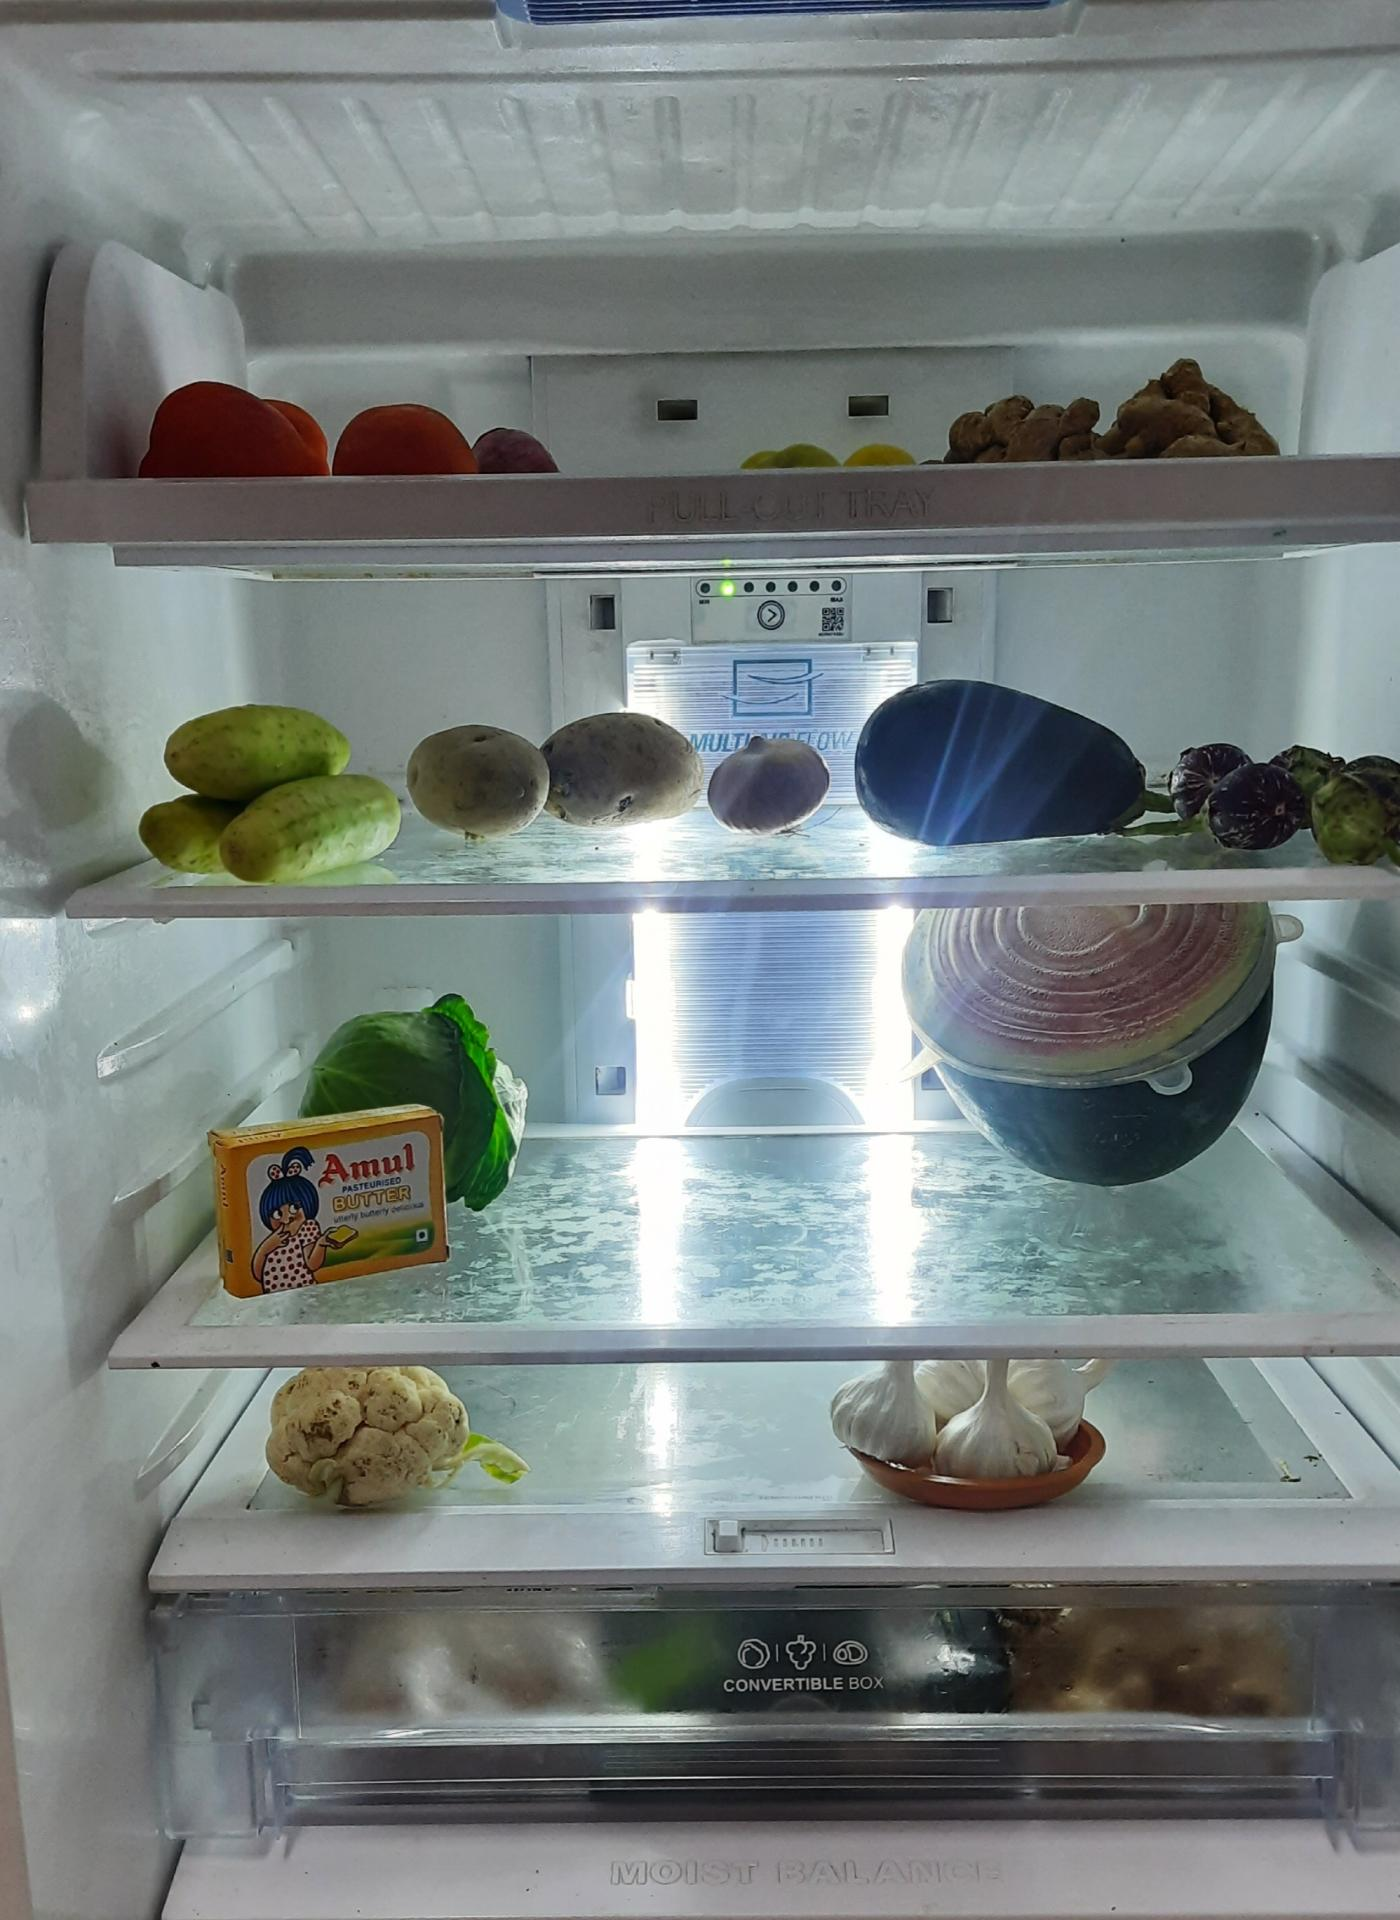brinjal: (851, 677, 1164, 848), (1161, 739, 1400, 856)
butter: (218, 1102, 450, 1298)
cabbage: (297, 1000, 531, 1218)
cauliflower: (258, 1362, 510, 1512)
cucumber: (142, 701, 406, 887)
garlic: (833, 1352, 1105, 1497)
ginger: (929, 361, 1291, 471)
lemon: (741, 438, 921, 470)
onion: (705, 729, 832, 842)
potato: (409, 696, 711, 835)
tomato: (139, 383, 550, 481)
watermelon: (895, 908, 1275, 1203)
